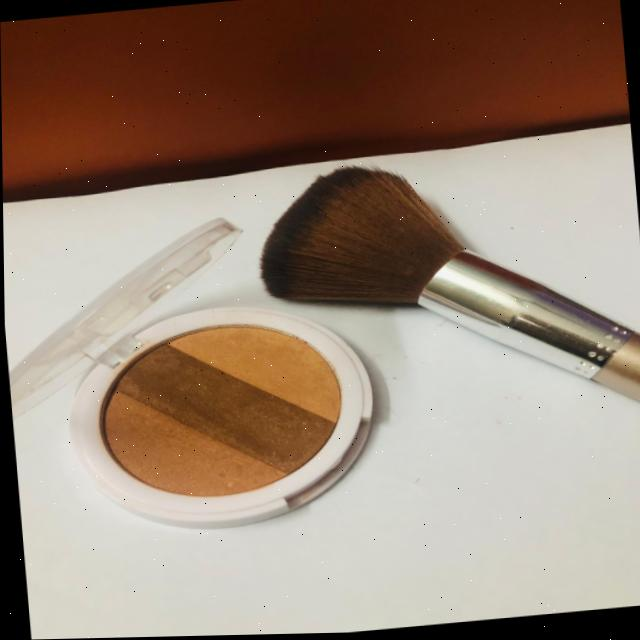bronzer: (71, 301, 381, 520)
brush: (249, 135, 640, 346)
